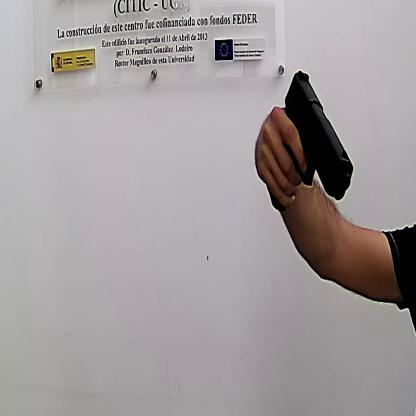gun: (264, 68, 354, 213)
